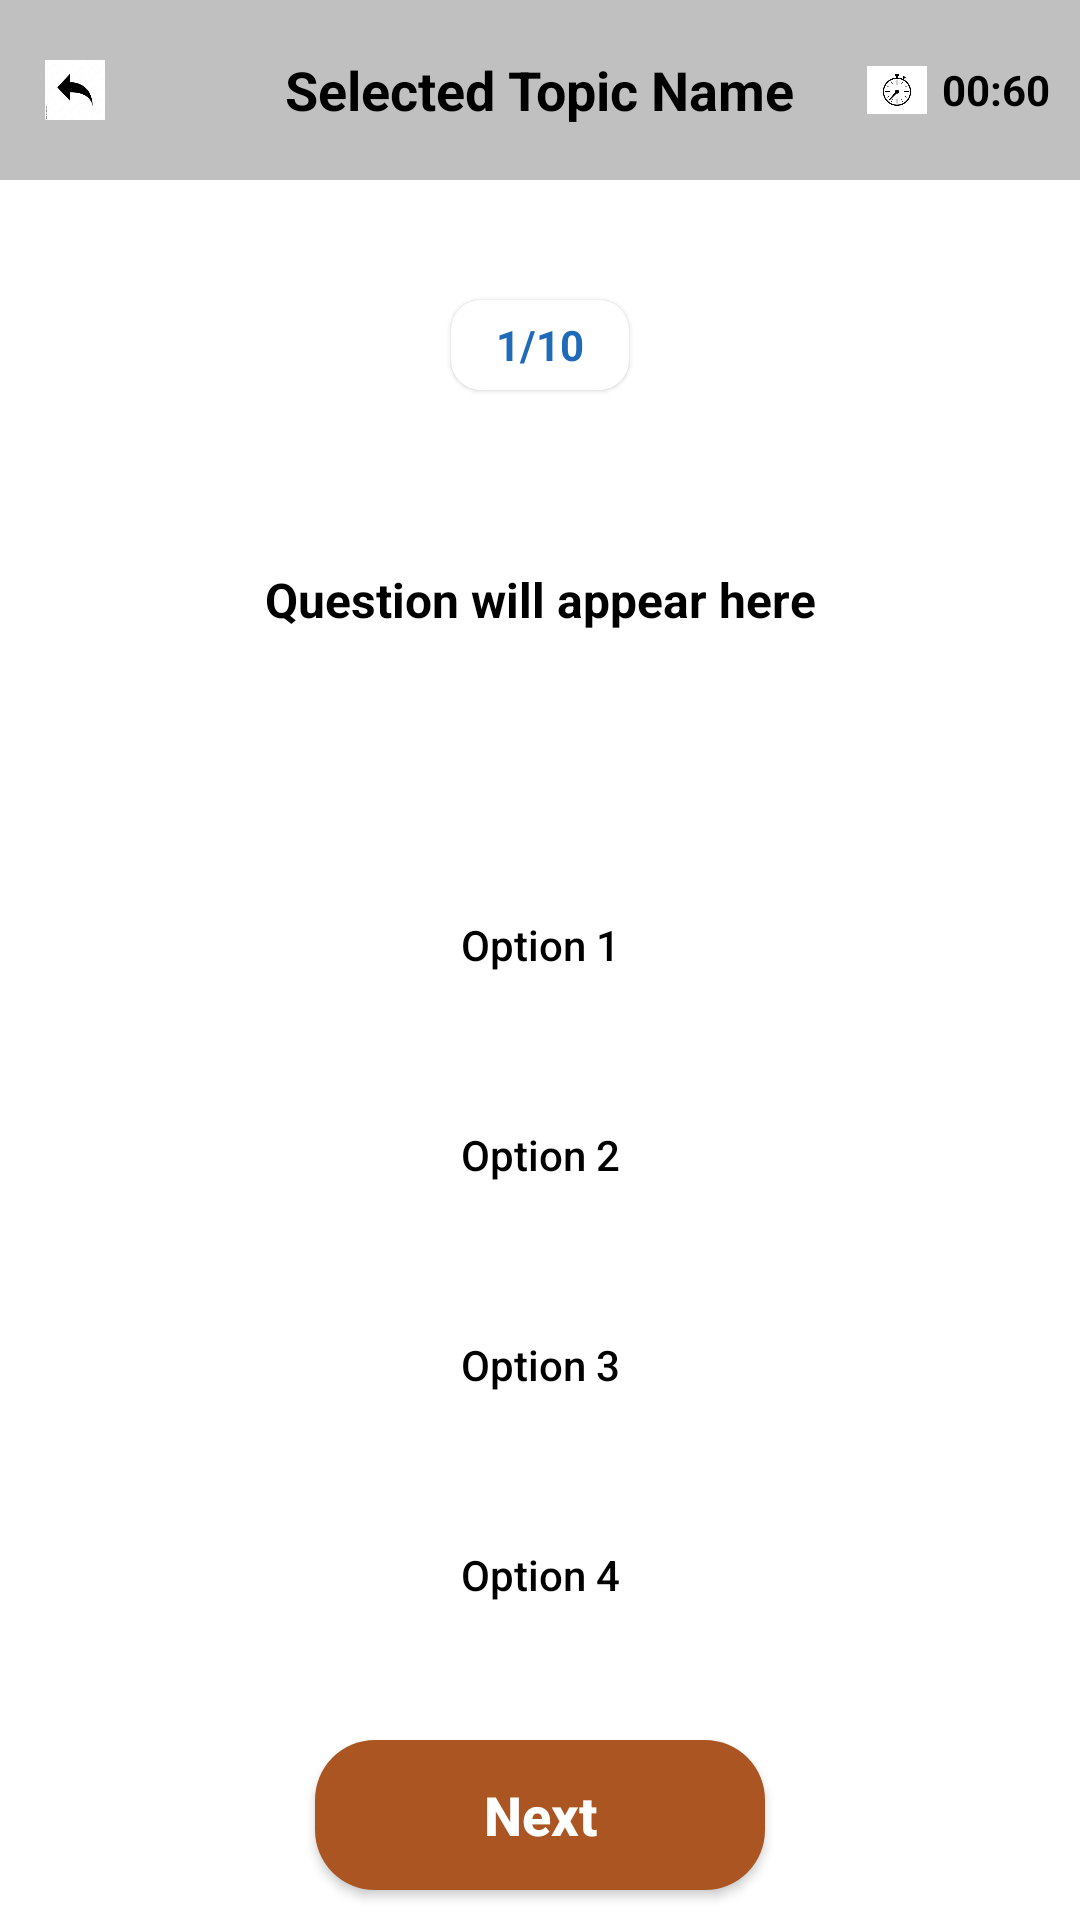

Locate icon controls on the screen. Image size 1080 x 1920, boxes as (x1, y1, x2, y2).
Back button: (45, 60, 105, 120)
Timer icon: (867, 66, 927, 114)
